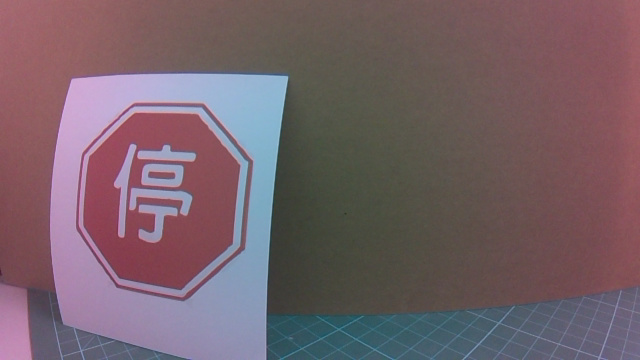stop: (69, 88, 255, 294)
